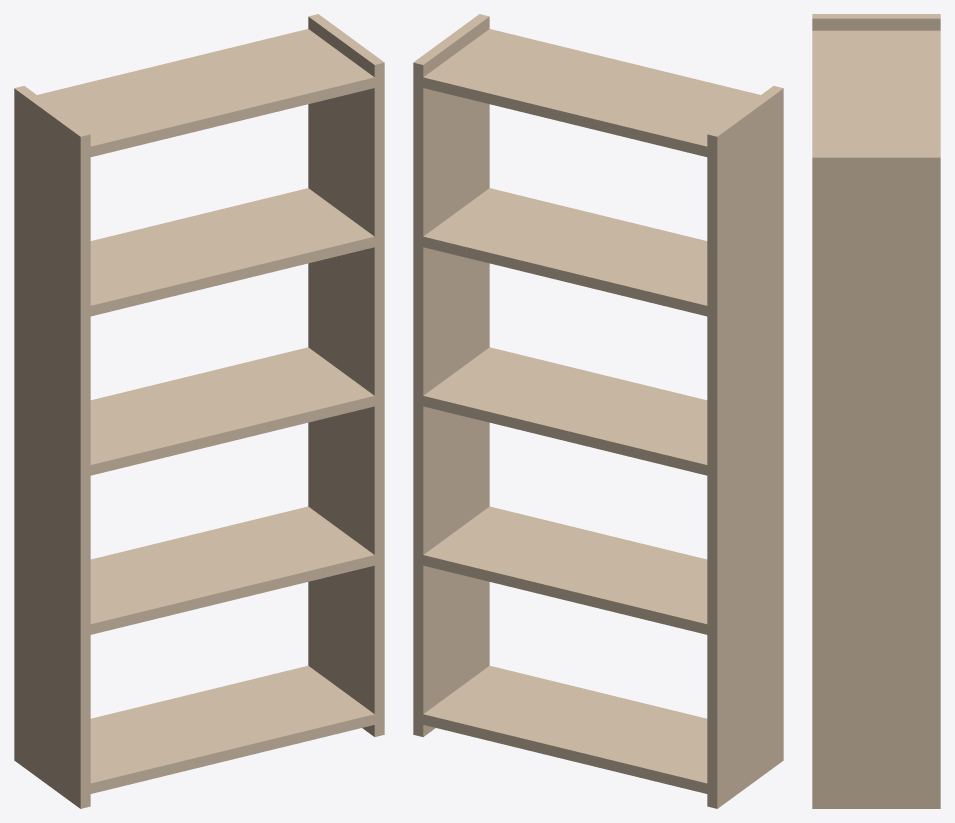
Rendered from STG-001.glb.
3 renders of one model, left to right at view 1: azimuth 30°, elevation 25°; view 2: azimuth 150°, elevation 25°; view 3: azimuth 270°, elevation 25°, orthographic. The views are drawn at different scales.
Visible parts, largest first — view 1: Cube, Cube.001, Cube.006, Cube.005, Cube.004, Cube.002, Cube.003; view 2: Cube, Cube.001, Cube.006, Cube.005, Cube.004, Cube.002, Cube.003; view 3: Cube.001, Cube.006, Cube.
Boxes of the visible parts, x1,y1,x2,y2 form: Cube: (14,86,90,808); Cube.001: (308,14,384,736); Cube.006: (37,29,374,156); Cube.005: (90,188,374,316); Cube.004: (90,347,374,475); Cube.002: (90,665,374,793); Cube.003: (90,506,374,634); Cube: (707,86,783,808); Cube.001: (413,14,489,736); Cube.006: (423,29,760,156); Cube.005: (423,188,707,316); Cube.004: (423,347,707,475); Cube.002: (423,665,707,793); Cube.003: (423,506,707,634); Cube.001: (812,153,940,808); Cube.006: (812,30,940,152); Cube: (812,14,940,30).
Size of the model in its own units: 0.9 by 1.9 by 0.34.
